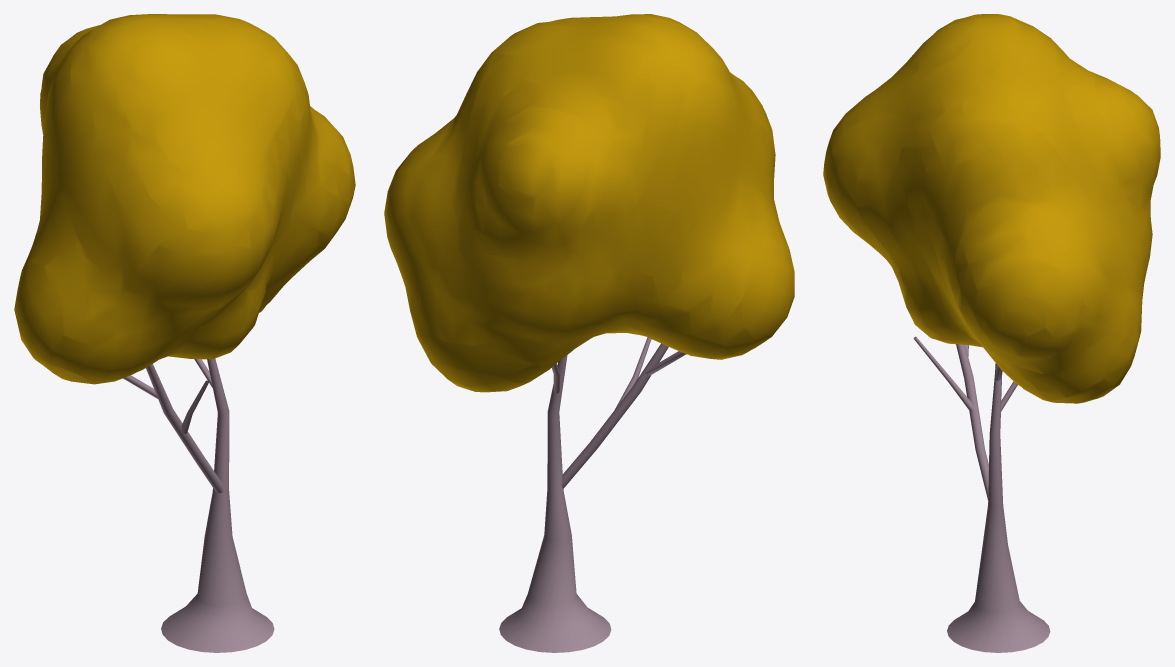
File: tree02.fbx
3 renders of one model, left to right at view 1: azimuth 30°, elevation 25°; view 2: azimuth 150°, elevation 25°; view 3: azimuth 270°, elevation 25°, orthographic. The views are drawn at different scales.
Visible parts, largest first — view 1: Wood_1_43.001; view 2: Wood_1_43.001; view 3: Wood_1_43.001.
Boxes of the visible parts, left/top/right/bottom form: Wood_1_43.001: left=14, top=14, right=355, bottom=652; Wood_1_43.001: left=384, top=14, right=794, bottom=652; Wood_1_43.001: left=823, top=14, right=1160, bottom=652.
Size of the model in its own units: 281 by 472 by 252.
